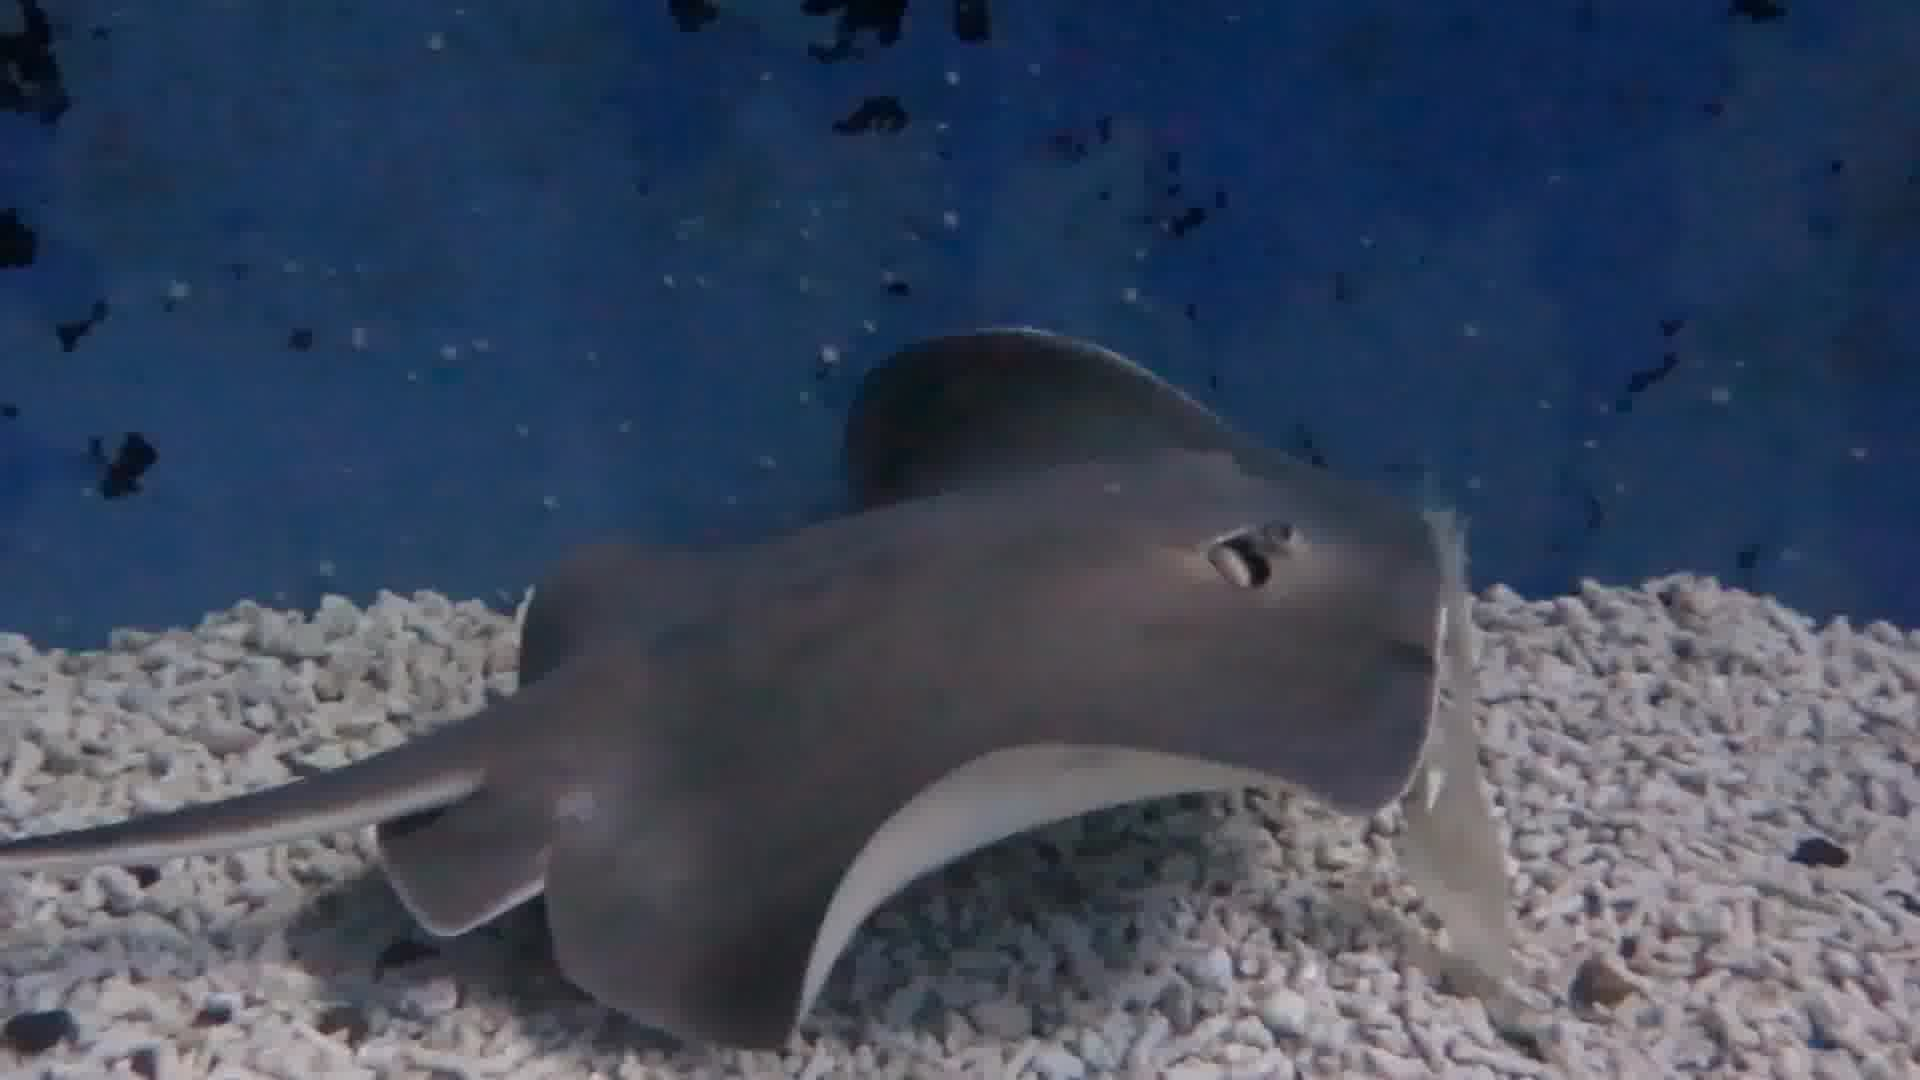Dasyatis bennetti: (298, 228, 1662, 1080)
